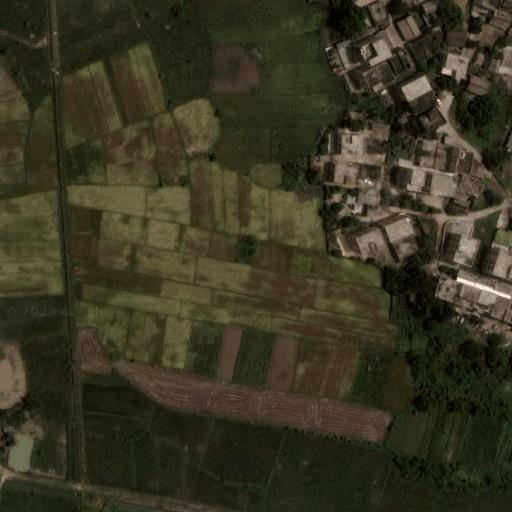building: (365, 62, 396, 92), (384, 216, 417, 243), (407, 89, 439, 116), (361, 39, 391, 67), (391, 235, 421, 263), (355, 228, 386, 255), (453, 236, 480, 266), (401, 75, 432, 101), (444, 55, 470, 82), (396, 15, 421, 42), (454, 284, 481, 309), (411, 37, 437, 62), (420, 107, 446, 132), (431, 174, 458, 197), (436, 276, 459, 303), (334, 163, 360, 185), (491, 295, 512, 322), (475, 290, 497, 314), (467, 73, 490, 95), (420, 141, 438, 169), (434, 143, 452, 171), (381, 27, 402, 50), (341, 135, 365, 155), (456, 149, 474, 175), (491, 8, 512, 30), (455, 269, 478, 288), (358, 165, 382, 183), (393, 166, 412, 188), (369, 2, 388, 23), (461, 174, 479, 195), (475, 276, 496, 294), (447, 30, 468, 48), (397, 49, 414, 70), (359, 188, 380, 205), (364, 138, 386, 154), (494, 228, 512, 247), (410, 169, 427, 186), (471, 6, 491, 20), (390, 56, 405, 74), (469, 67, 491, 78), (472, 53, 486, 70), (327, 134, 337, 155), (487, 58, 500, 74), (366, 204, 379, 218), (502, 50, 512, 68), (433, 25, 444, 41), (423, 1, 436, 14), (423, 13, 433, 28), (372, 124, 390, 132), (349, 112, 364, 120), (347, 191, 356, 204), (408, 183, 420, 192), (3, 425, 16, 433), (354, 203, 362, 215), (311, 161, 323, 168), (320, 155, 329, 161), (446, 136, 451, 144), (310, 156, 317, 161), (8, 442, 14, 447)
